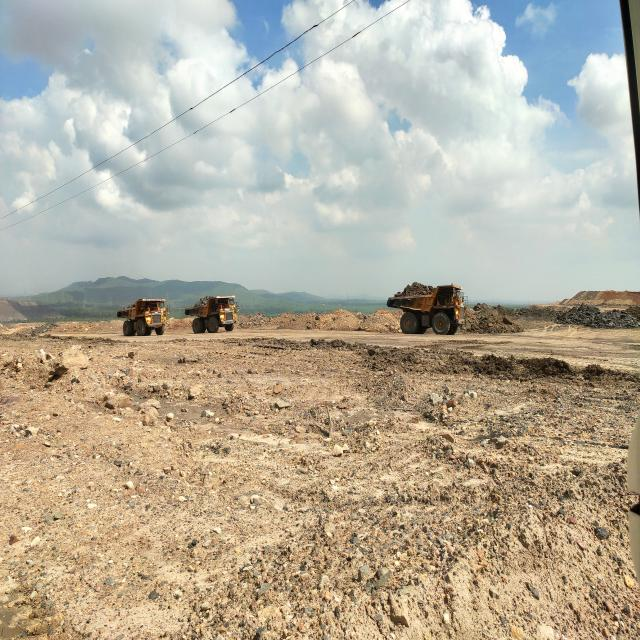dump_truck: (387, 282, 464, 335), (118, 299, 168, 336), (192, 296, 238, 333)
